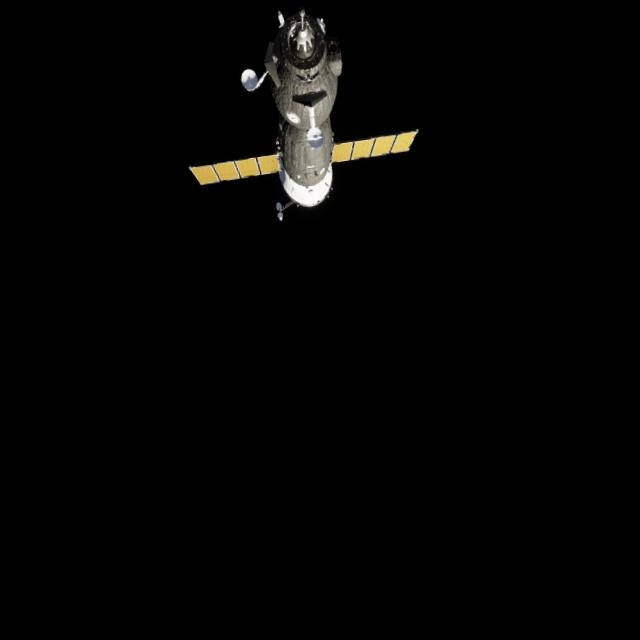Satellites revolving around earth: (167, 0, 430, 235)
